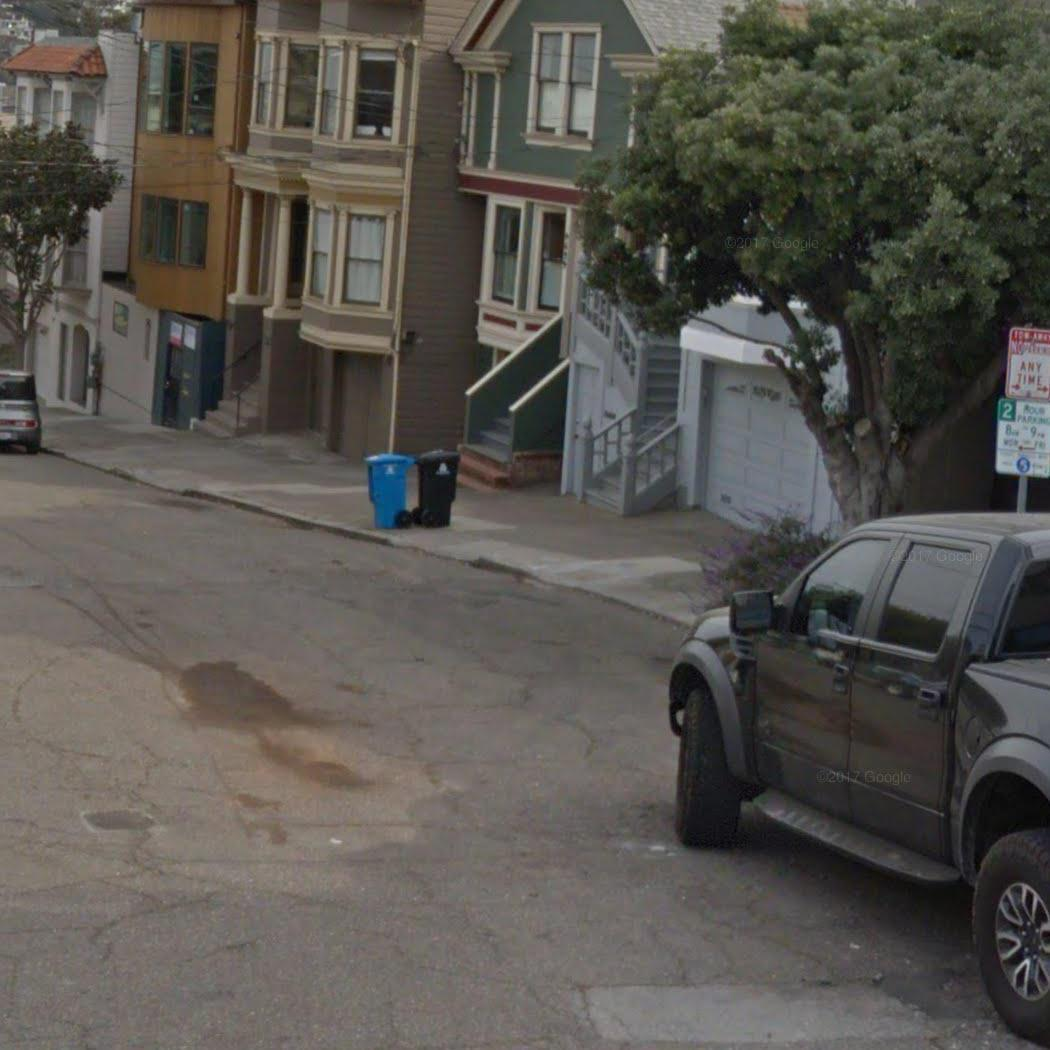2 Hour Parking: (992, 403, 1049, 481)
No Parking Anytime: (1002, 323, 1048, 403)
